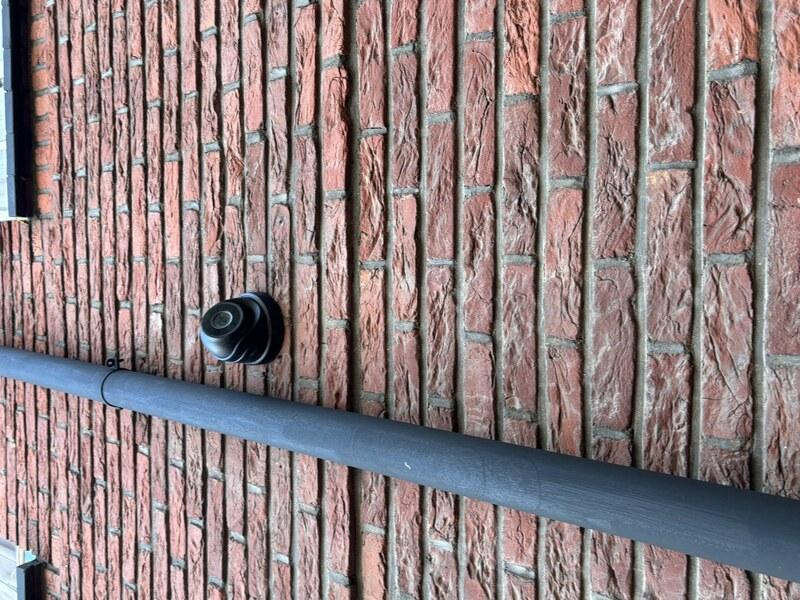turret: (233, 193, 313, 288)
